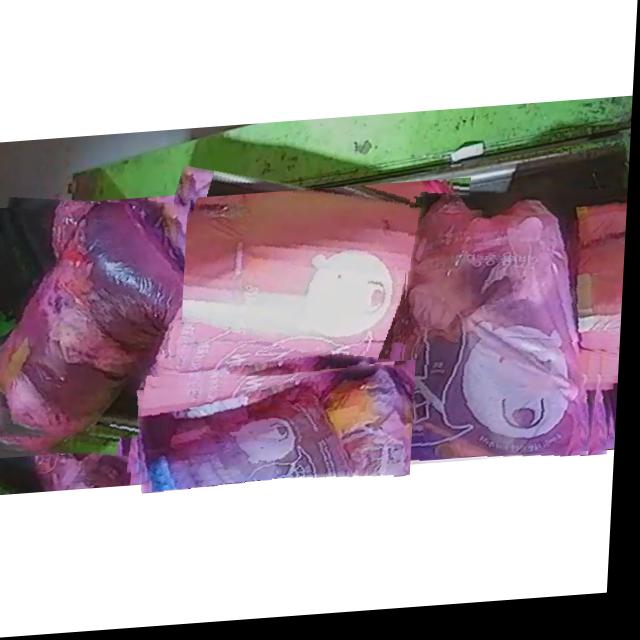other_trashbag: (159, 197, 470, 384), (402, 204, 598, 465), (0, 204, 186, 442), (142, 372, 418, 483)
